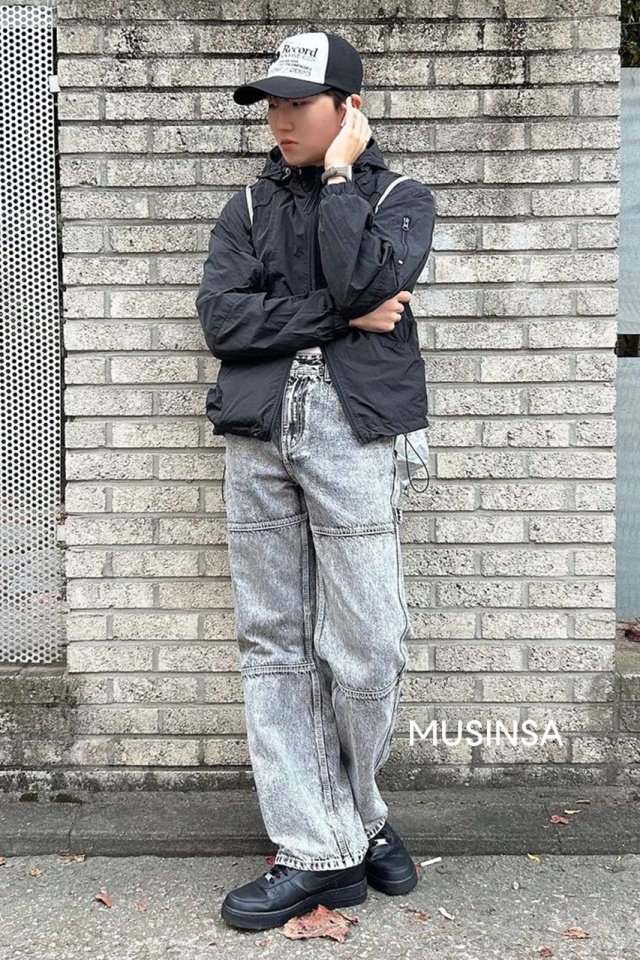Cap: (228, 28, 364, 106)
Jeans: (215, 359, 399, 869)
Outer: (202, 157, 436, 443)
Shoes: (218, 817, 425, 933)
